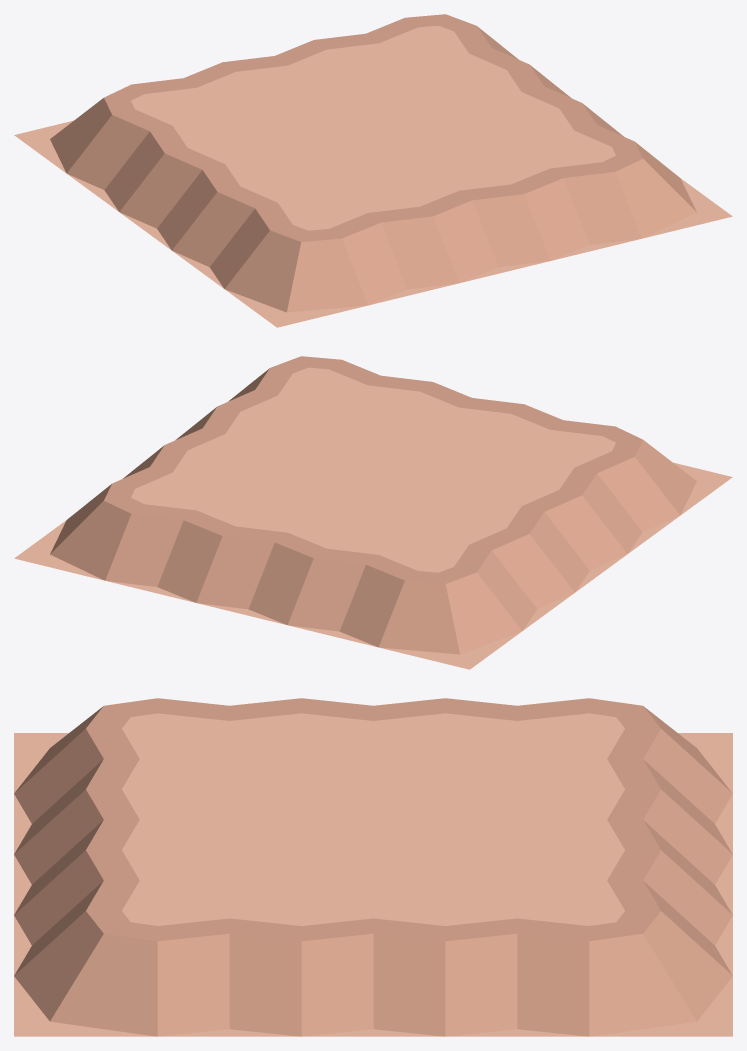
Rendered from mesa_small_a.glb.
3 views of the same model, one above another, from view 1: azimuth 30°, elevation 25°; view 2: azimuth 150°, elevation 25°; view 3: azimuth 270°, elevation 25° (orthographic). The views are drawn at different scales.
Visible parts, largest first — view 1: MesaSmallA_05_terrain_sideCorner.003, MesaSmallA_12_terrain_sideCliff.007, MesaSmallA_11_terrain_sideCliff.006, MesaSmallA_16_terrain_sideCliff.011, MesaSmallA_13_terrain_sideCliff.008, MesaSmallA_07_terrain_sideCliff.003, MesaSmallA_08_terrain_sideCliff.002, MesaSmallA_04_terrain_sideCorner.002, MesaSmallA_00_terrain, MesaSmallA_18_terrain.002, MesaSmallA_24_terrain.008, MesaSmallA_19_terrain.003 (+13 smaller); view 2: MesaSmallA_03_terrain_sideCorner.001, MesaSmallA_10_terrain_sideCliff.005, MesaSmallA_15_terrain_sideCliff.010, MesaSmallA_09_terrain_sideCliff.004, MesaSmallA_13_terrain_sideCliff.008, MesaSmallA_08_terrain_sideCliff.002, MesaSmallA_07_terrain_sideCliff.003, MesaSmallA_02_terrain_sideCorner, MesaSmallA_18_terrain.002, MesaSmallA_23_terrain.007, MesaSmallA_24_terrain.008, MesaSmallA_00_terrain (+13 smaller); view 3: MesaSmallA_01_terrain_sideCliff, MesaSmallA_06_terrain_sideCliff.001, MesaSmallA_14_terrain_sideCliff.009, MesaSmallA_02_terrain_sideCorner, MesaSmallA_04_terrain_sideCorner.002, MesaSmallA_19_terrain.003, MesaSmallA_20_terrain.004, MesaSmallA_18_terrain.002, MesaSmallA_09_terrain_sideCliff.004, MesaSmallA_16_terrain_sideCliff.011, MesaSmallA_00_terrain, MesaSmallA_17_terrain.001 (+13 smaller).
Part boxes in pixels (left/top/right/bottom): MesaSmallA_05_terrain_sideCorner.003: left=225, top=219, right=368, bottom=327; MesaSmallA_12_terrain_sideCliff.007: left=407, top=175, right=550, bottom=283; MesaSmallA_11_terrain_sideCliff.006: left=498, top=152, right=641, bottom=260; MesaSmallA_16_terrain_sideCliff.011: left=316, top=197, right=459, bottom=305; MesaSmallA_13_terrain_sideCliff.008: left=119, top=142, right=262, bottom=250; MesaSmallA_07_terrain_sideCliff.003: left=67, top=103, right=209, bottom=211; MesaSmallA_08_terrain_sideCliff.002: left=172, top=181, right=314, bottom=288; MesaSmallA_04_terrain_sideCorner.002: left=589, top=141, right=732, bottom=238; MesaSmallA_00_terrain: left=340, top=37, right=483, bottom=97; MesaSmallA_18_terrain.002: left=210, top=120, right=353, bottom=180; MesaSmallA_24_terrain.008: left=393, top=75, right=535, bottom=136; MesaSmallA_19_terrain.003: left=158, top=81, right=300, bottom=141; MesaSmallA_03_terrain_sideCorner.001: left=378, top=561, right=521, bottom=669; MesaSmallA_10_terrain_sideCliff.005: left=196, top=517, right=339, bottom=625; MesaSmallA_15_terrain_sideCliff.010: left=105, top=494, right=248, bottom=602; MesaSmallA_09_terrain_sideCliff.004: left=287, top=539, right=430, bottom=647; MesaSmallA_13_terrain_sideCliff.008: left=484, top=484, right=627, bottom=592; MesaSmallA_08_terrain_sideCliff.002: left=537, top=445, right=679, bottom=553; MesaSmallA_07_terrain_sideCliff.003: left=432, top=523, right=574, bottom=630; MesaSmallA_02_terrain_sideCorner: left=14, top=483, right=157, bottom=580; MesaSmallA_18_terrain.002: left=393, top=462, right=536, bottom=522; MesaSmallA_23_terrain.007: left=263, top=379, right=406, bottom=439; MesaSmallA_24_terrain.008: left=211, top=417, right=353, bottom=478; MesaSmallA_00_terrain: left=158, top=456, right=300, bottom=516; MesaSmallA_01_terrain_sideCliff: left=301, top=911, right=445, bottom=1036; MesaSmallA_06_terrain_sideCliff.001: left=157, top=911, right=301, bottom=1036; MesaSmallA_14_terrain_sideCliff.009: left=445, top=911, right=589, bottom=1036; MesaSmallA_02_terrain_sideCorner: left=589, top=911, right=732, bottom=1036; MesaSmallA_04_terrain_sideCorner.002: left=14, top=911, right=157, bottom=1036; MesaSmallA_19_terrain.003: left=445, top=728, right=589, bottom=789; MesaSmallA_20_terrain.004: left=157, top=728, right=301, bottom=789; MesaSmallA_18_terrain.002: left=301, top=728, right=445, bottom=789; MesaSmallA_09_terrain_sideCliff.004: left=589, top=728, right=732, bottom=853; MesaSmallA_16_terrain_sideCliff.011: left=14, top=728, right=157, bottom=853; MesaSmallA_00_terrain: left=445, top=850, right=589, bottom=910; MesaSmallA_17_terrain.001: left=445, top=789, right=589, bottom=849.
Size of the model in its own units: 5 by 0.5 by 5.
